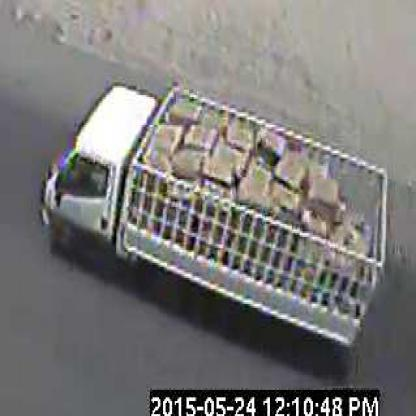truck: (44, 85, 387, 355)
